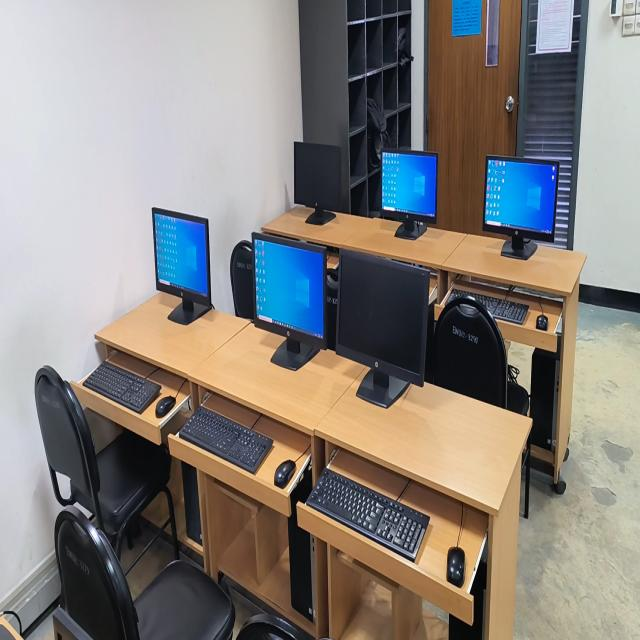Chair: (35, 366, 179, 558), (56, 511, 235, 639), (434, 295, 507, 408)
Cpu: (288, 465, 313, 622), (449, 559, 486, 639), (530, 350, 555, 449), (182, 463, 201, 545), (512, 308, 516, 313)
Keyboard: (305, 450, 430, 562), (179, 405, 273, 473), (83, 361, 161, 414), (450, 290, 528, 324)
Monitor: (335, 249, 430, 407), (253, 233, 327, 366), (483, 155, 558, 250), (152, 208, 212, 325), (380, 149, 437, 238), (294, 143, 342, 224)
Mouse: (447, 547, 465, 587), (274, 460, 296, 488), (156, 396, 176, 418), (536, 314, 548, 331)
